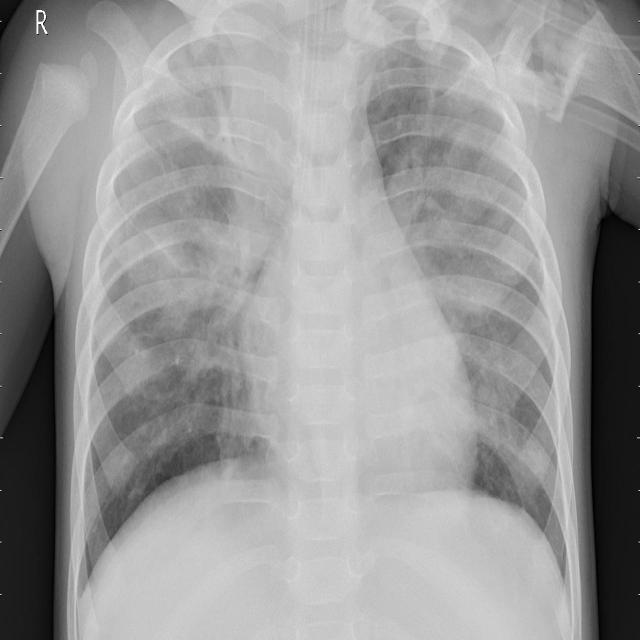high-pneumonia: (388, 48, 551, 500), (171, 7, 290, 271), (116, 205, 245, 374)
